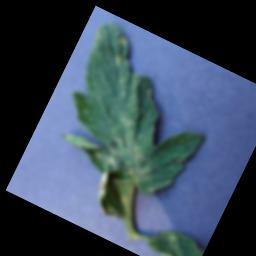Leaf_Mold: (88, 109, 170, 188)
